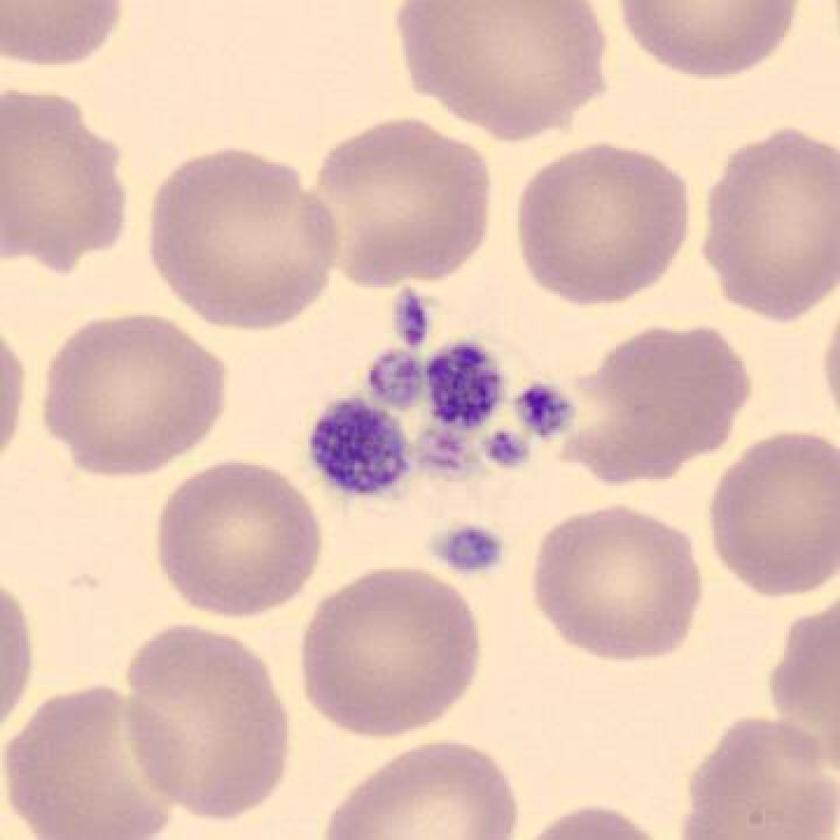platelets: (297, 385, 419, 510), (414, 330, 519, 436), (419, 508, 517, 591), (505, 369, 589, 454), (356, 341, 430, 418), (375, 274, 445, 355)
